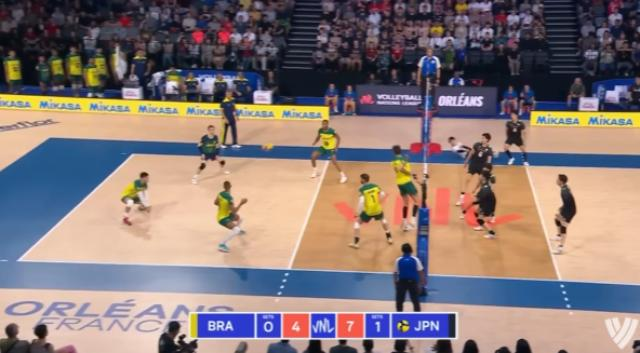Levantador: (348, 170, 397, 252)
Libero: (190, 120, 238, 186), (443, 130, 479, 166)
bola: (253, 135, 279, 159)
